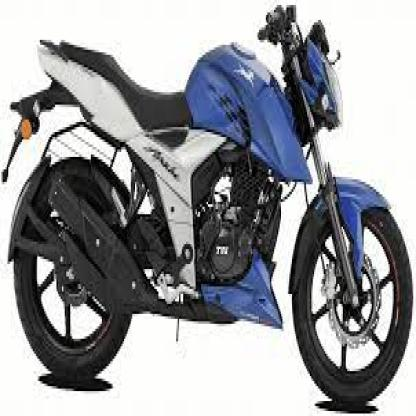bike: (3, 4, 416, 403)
